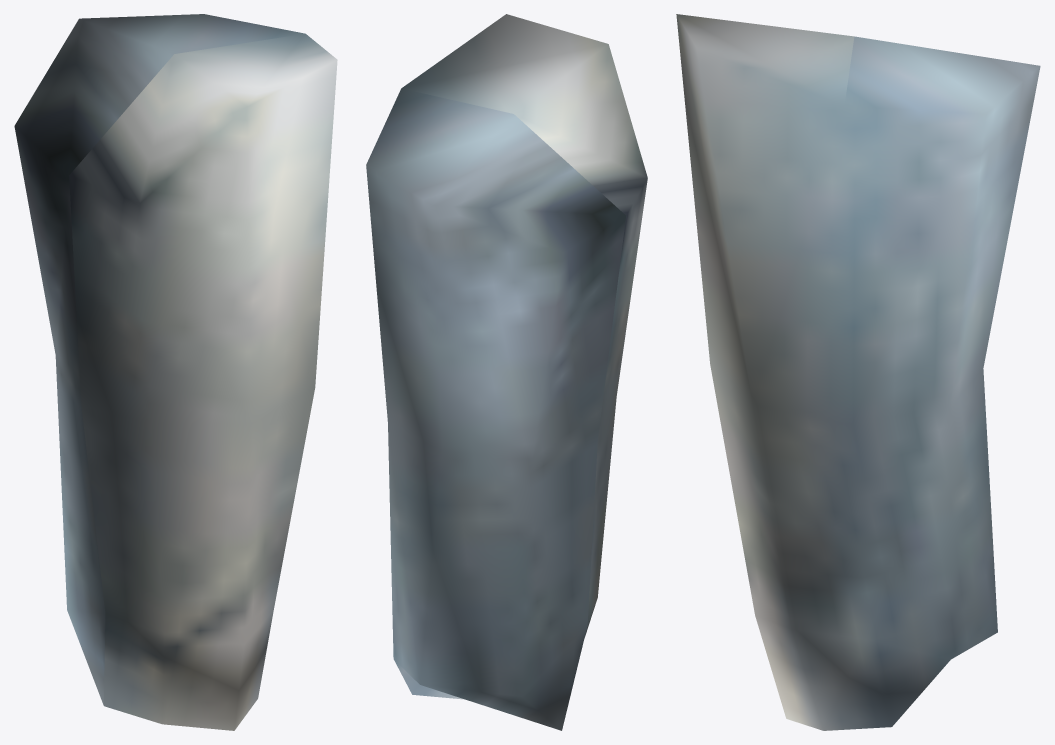
The model's file is Minos_Left_Thigh.obj.
3 views of the same model, side by side, from view 1: azimuth 30°, elevation 25°; view 2: azimuth 150°, elevation 25°; view 3: azimuth 270°, elevation 25° (orthographic). The views are drawn at different scales.
Parts seen in each view (by area): view 1: Minos_Left_Thigh; view 2: Minos_Left_Thigh; view 3: Minos_Left_Thigh.
Part boxes in pixels (x1=…): Minos_Left_Thigh: x1=14, y1=14, x2=337, y2=730; Minos_Left_Thigh: x1=366, y1=14, x2=647, y2=730; Minos_Left_Thigh: x1=676, y1=14, x2=1040, y2=730.
Size of the model in its own units: 0.1087 by 0.2973 by 0.1402.
Materials: 1 (1 with a texture image).
